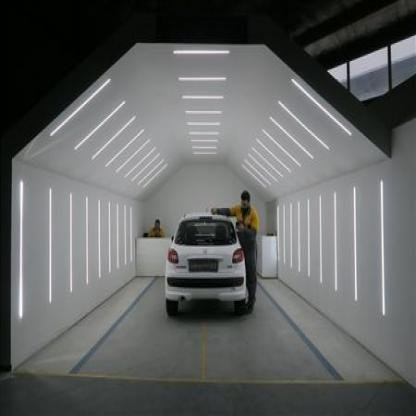Car: (166, 212, 252, 319)
